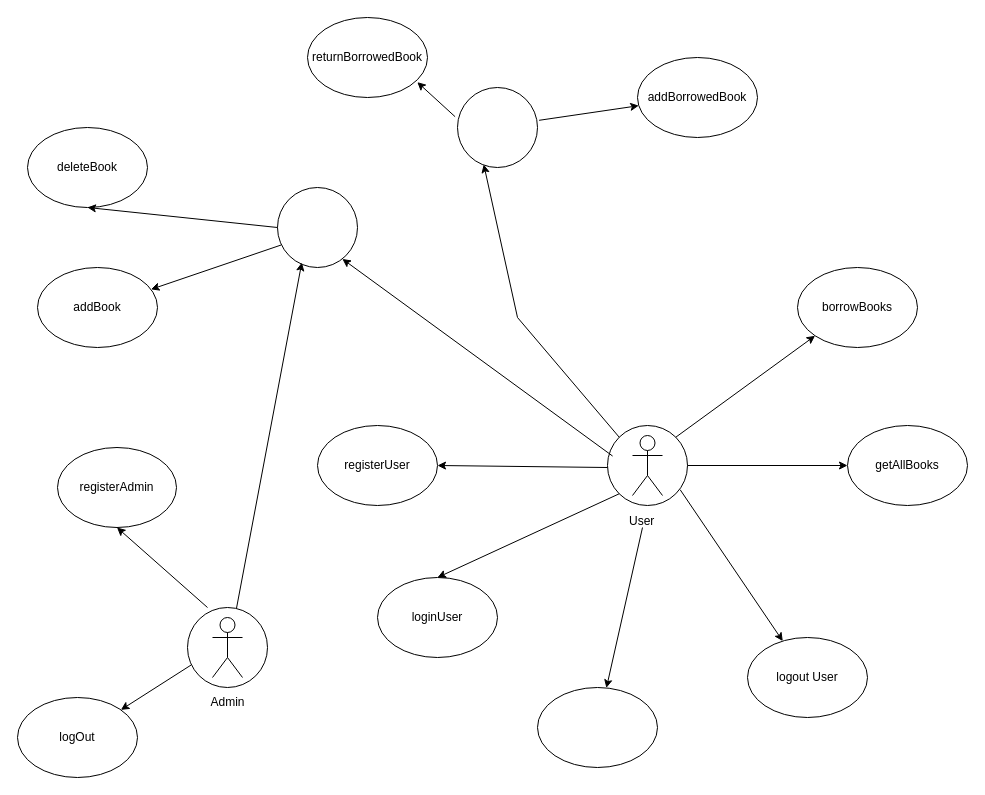
This 985x795 diagram has some shape labels left out. Here are the shapes that lost their labels. From the top down, the box of each, then its label:
(456, 86, 538, 168): BorrowedBooks
(276, 186, 358, 268): Book
(536, 686, 658, 768): viewBorrowedBooks
